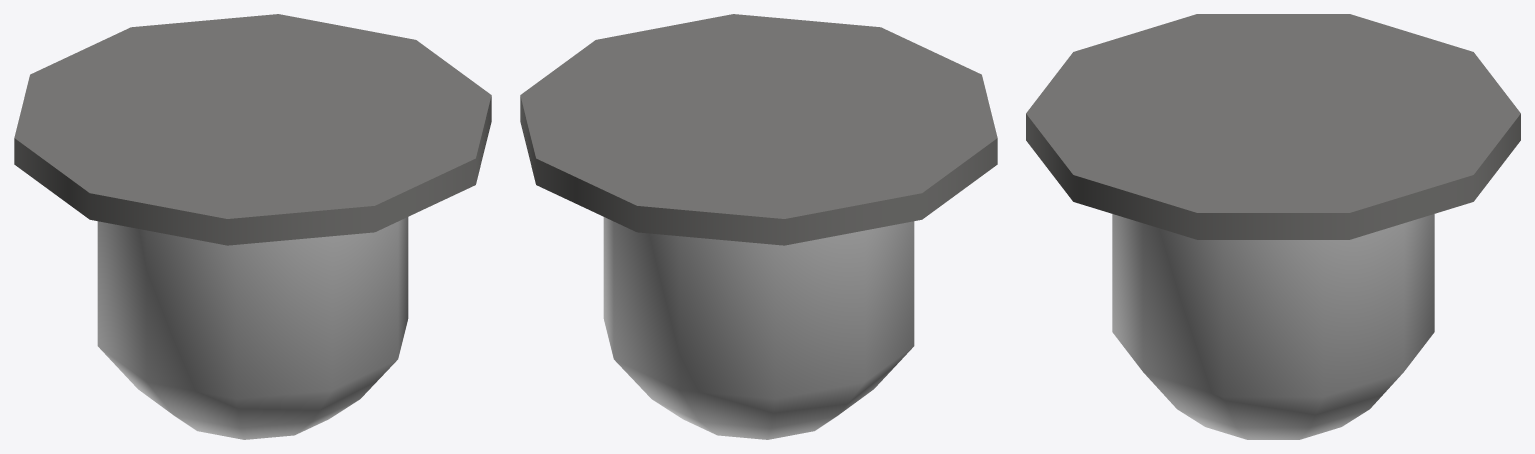
The model's file is Light_Small.glb.
3 views of the same model, side by side, from view 1: azimuth 30°, elevation 25°; view 2: azimuth 150°, elevation 25°; view 3: azimuth 270°, elevation 25° (orthographic).
Visible parts, largest first — view 1: Light_Small; view 2: Light_Small; view 3: Light_Small.
Boxes of the visible parts, x1=… form: Light_Small: x1=14, y1=14, x2=491, y2=439; Light_Small: x1=520, y1=14, x2=997, y2=439; Light_Small: x1=1026, y1=14, x2=1520, y2=439.
Bounding box in the file's own units: 0.0759 × 0.052 × 0.0798.
2 materials, 2 textured.
